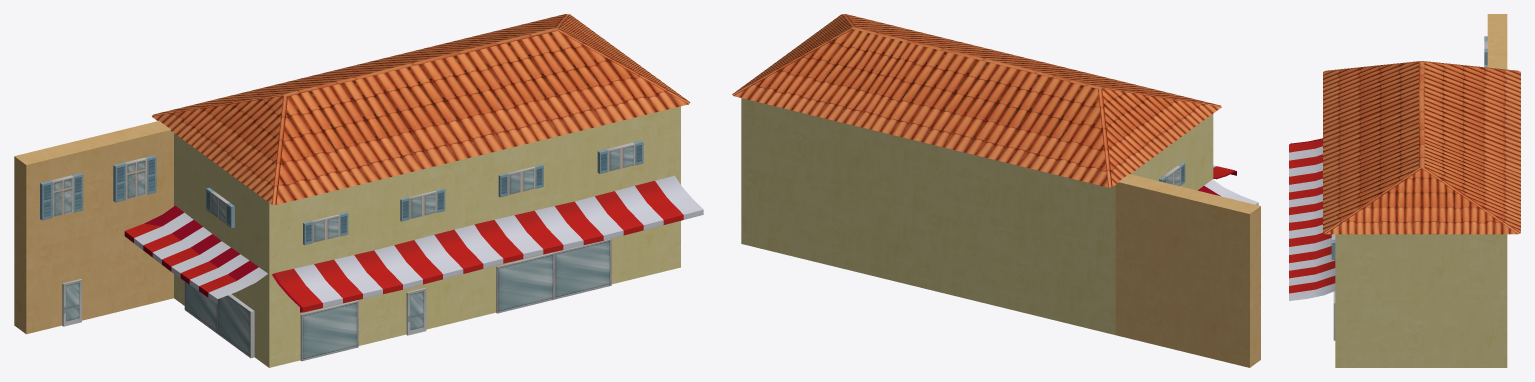
The model's file is Houses_05.fbx.
3 views of the same model, side by side, from view 1: azimuth 30°, elevation 25°; view 2: azimuth 150°, elevation 25°; view 3: azimuth 270°, elevation 25° (orthographic). The views are drawn at different scales.
Visible parts, largest first — view 1: Houses_05; view 2: Houses_05; view 3: Houses_05.
Boxes of the visible parts, box(x1,y1,x2,y2) form: Houses_05: box(14, 14, 703, 367); Houses_05: box(732, 14, 1260, 367); Houses_05: box(1289, 14, 1520, 367).
Size of the model in its own units: 10.12 by 3.71 by 4.51.
